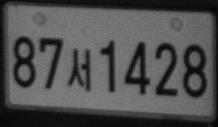1: (97, 40, 123, 92)
2: (154, 41, 178, 95)
4: (124, 41, 150, 94)
7: (38, 37, 63, 88)
8: (181, 43, 208, 98), (12, 35, 36, 88)
서: (67, 48, 92, 91)
